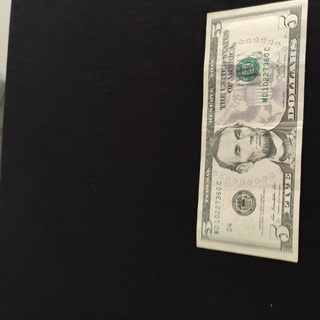5USDFront: (195, 0, 309, 263)
